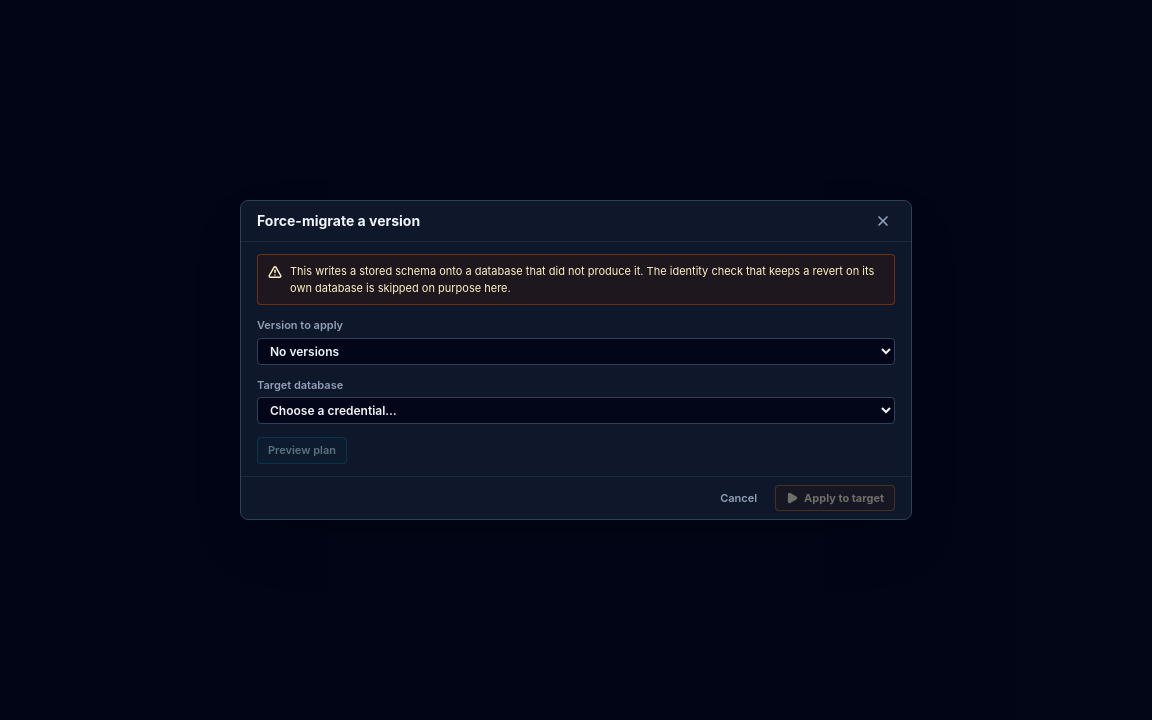
Test: ForceMigrateModal › throws the plan away when the target changes
Check: the dropdown with test id "force-migrate-version" is shown, box [257,338,895,364]
Select "staging [postgres] · shop_staging" in the dropdown with test id "force-migrate-target" at (576, 410), box [257,397,895,424]
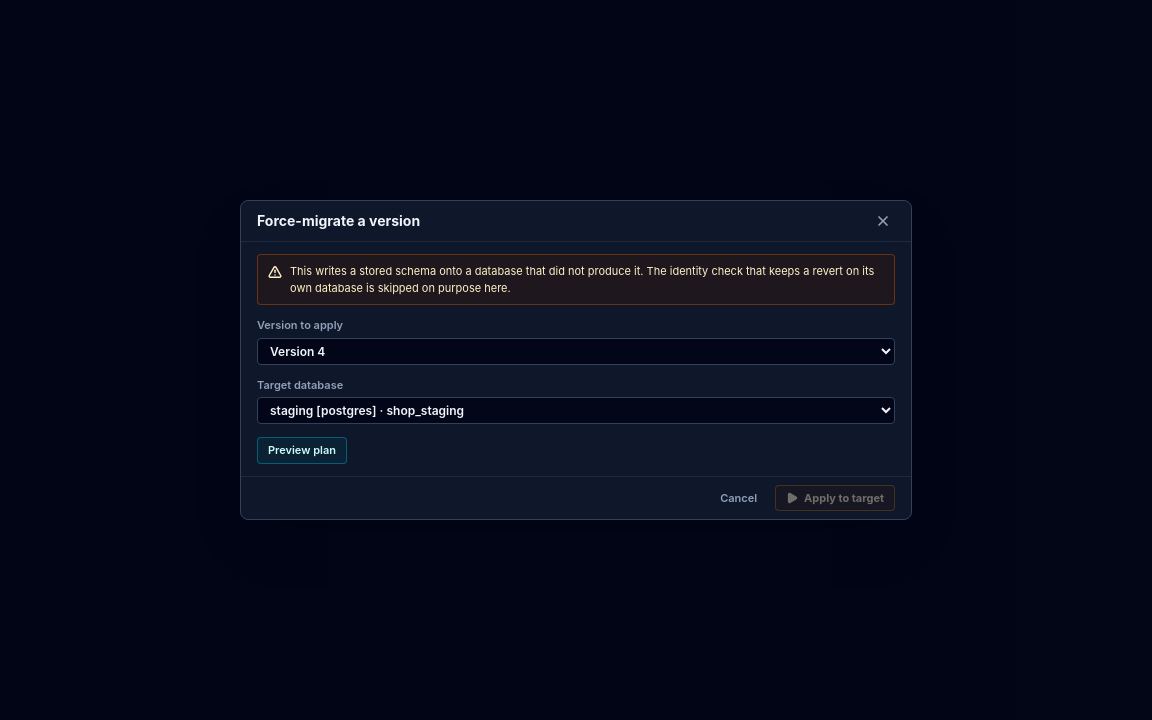
Click the button with test id "force-migrate-preview" at (302, 450), box [257,437,347,464]
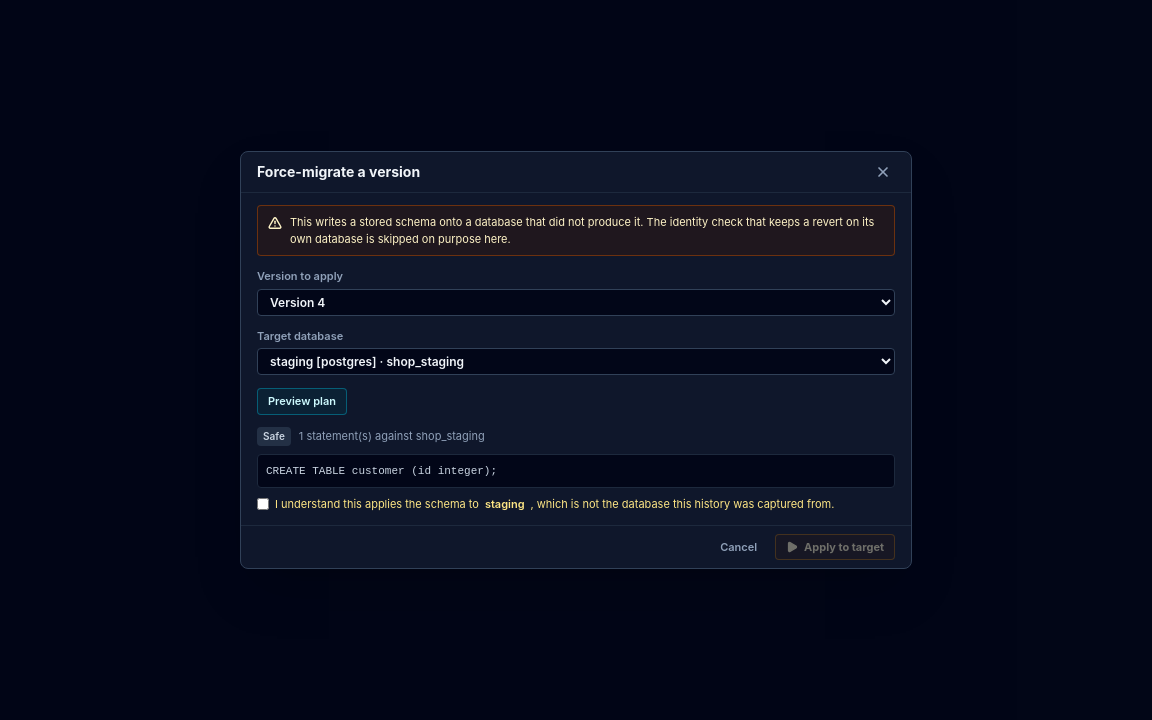
Check: the text "Safe" is shown, box [257,426,291,446]
Click the checkbox with test id "force-migrate-confirm-force" at (263, 504), box [257,498,269,510]
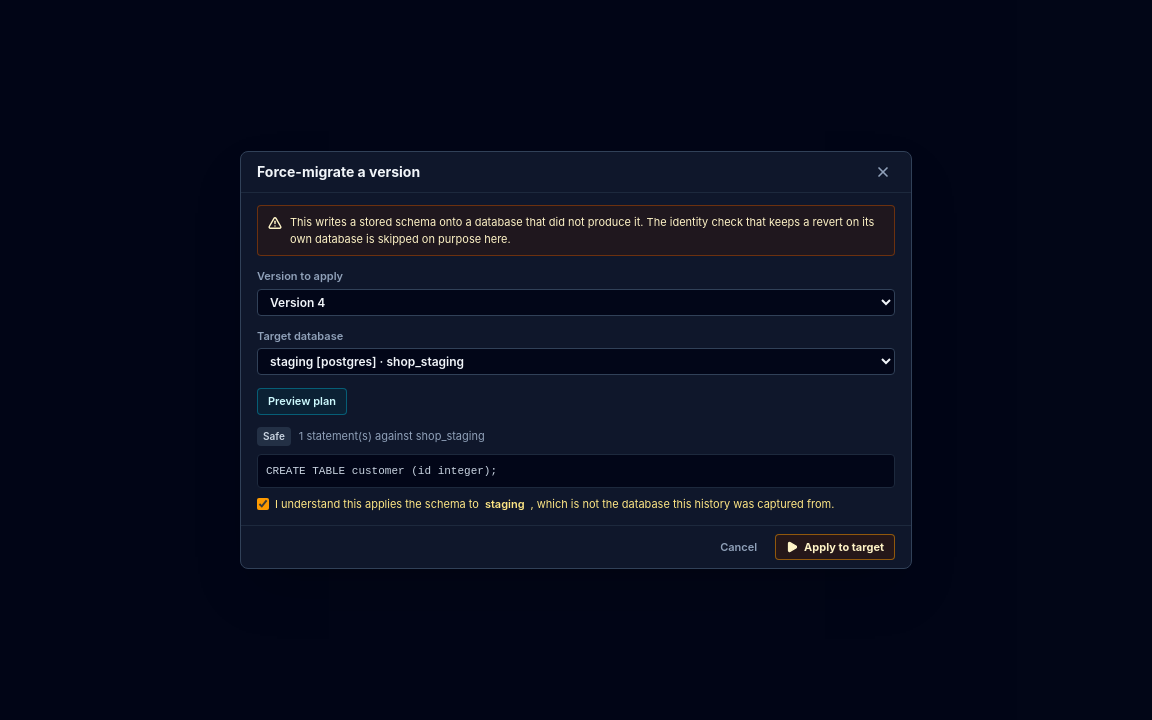
Check: the button with test id "force-migrate-apply" is enabled, box [775,534,895,560]
Select "analytics [postgres] · shop_analytics" in the dropdown with test id "force-migrate-target" at (576, 362), box [257,348,895,375]
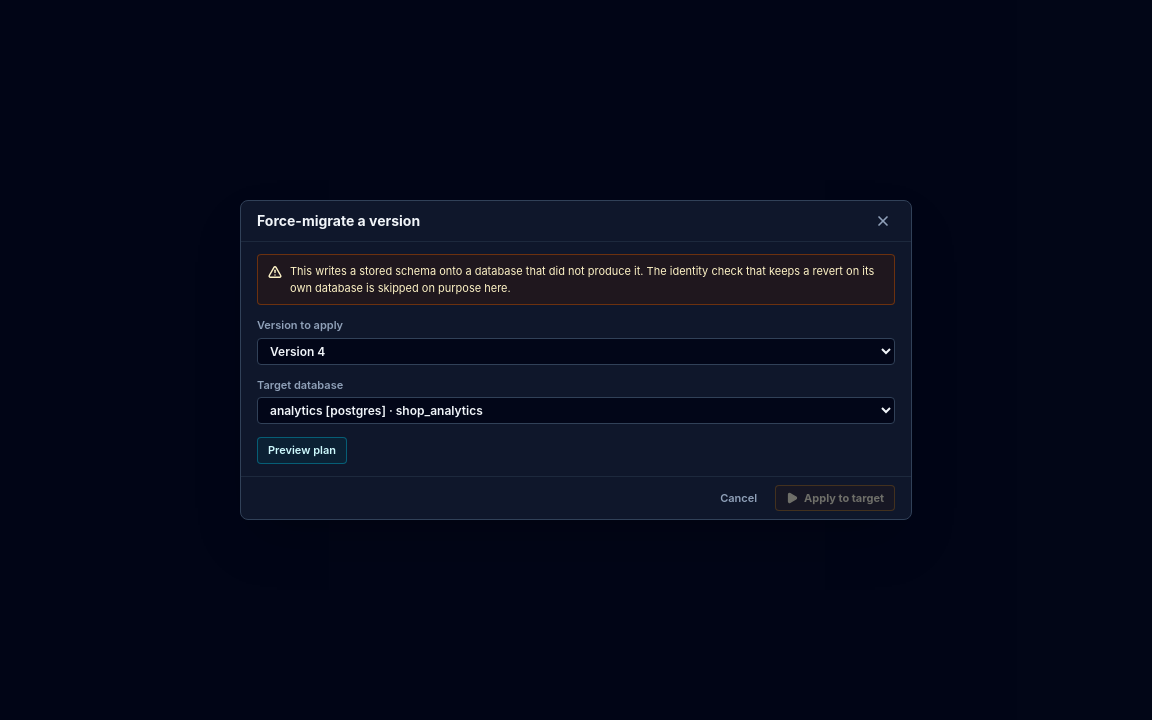
Check: the text with test id "force-migrate-risk" is gone
Check: the button with test id "force-migrate-apply" is disabled, box [775,484,895,511]
